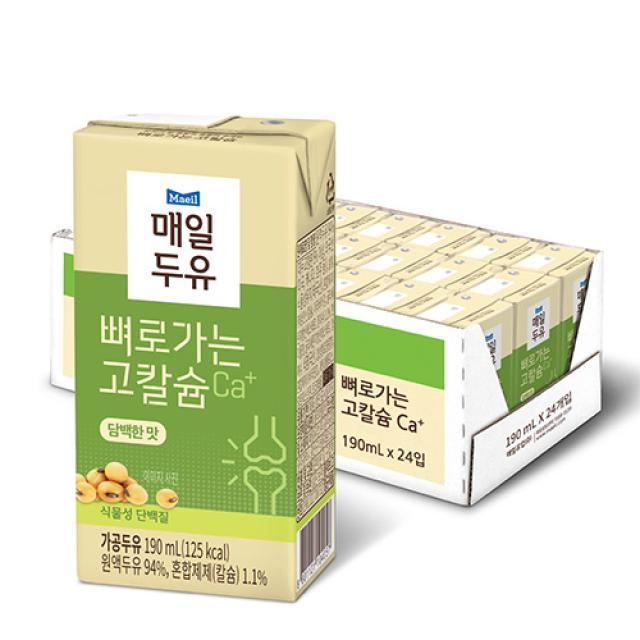Tetra: (67, 90, 337, 608)
